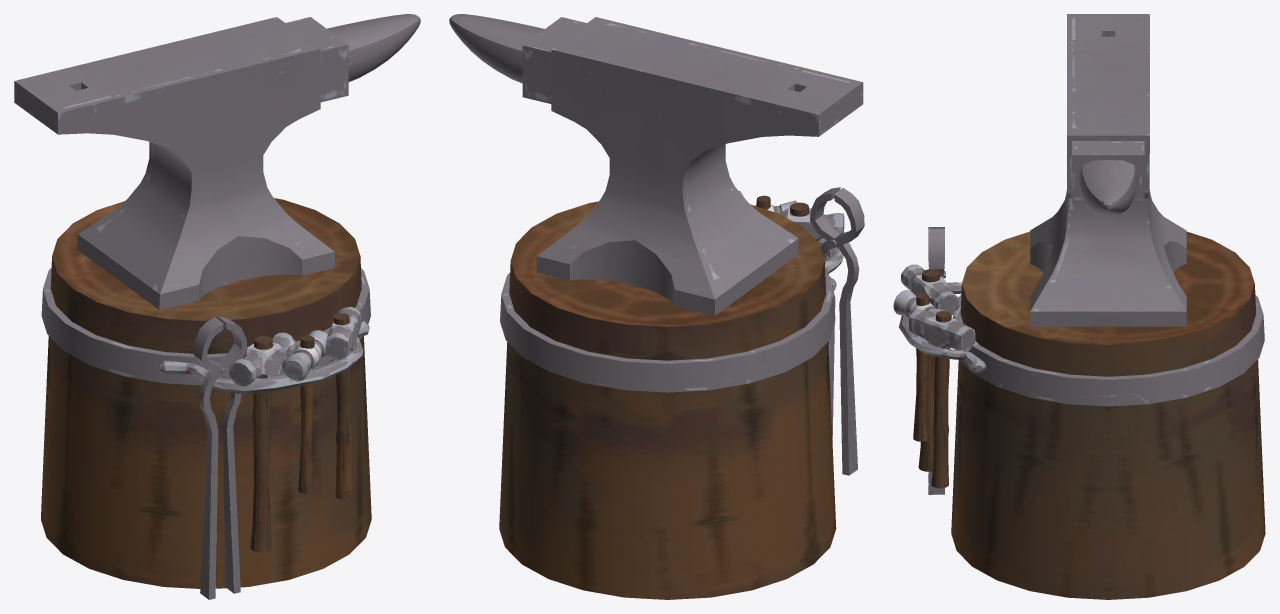
File: Anvil_Log.gltf
3 views of the same model, side by side, from view 1: azimuth 30°, elevation 25°; view 2: azimuth 150°, elevation 25°; view 3: azimuth 270°, elevation 25° (orthographic). The views are drawn at different scales.
Visible parts, largest first — view 1: Anvil_Log; view 2: Anvil_Log; view 3: Anvil_Log.
Boxes of the visible parts, <box> form: Anvil_Log: <box>14,14,420,599</box>; Anvil_Log: <box>449,14,864,599</box>; Anvil_Log: <box>893,14,1265,599</box>.
Size of the model in its own units: 0.9293 by 1.07 by 0.8214.
Materials: 3 (3 with a texture image).
